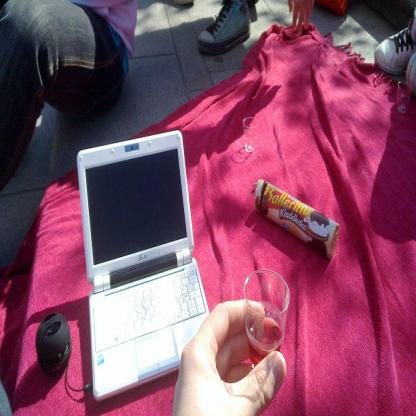board: (78, 125, 213, 396)
